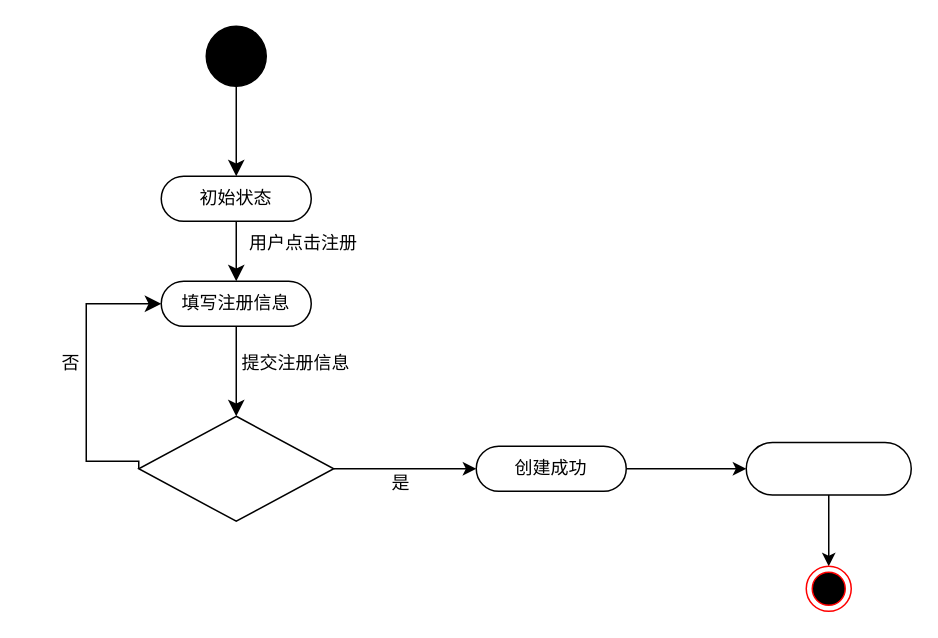
Image size: 938x638. Some labels were removed from this diagram. The centre of each missing label's shape, as x and y in pixels:
判断注册是否符合规定: the point at 235,468
系统录入账户信息: the point at 828,468
